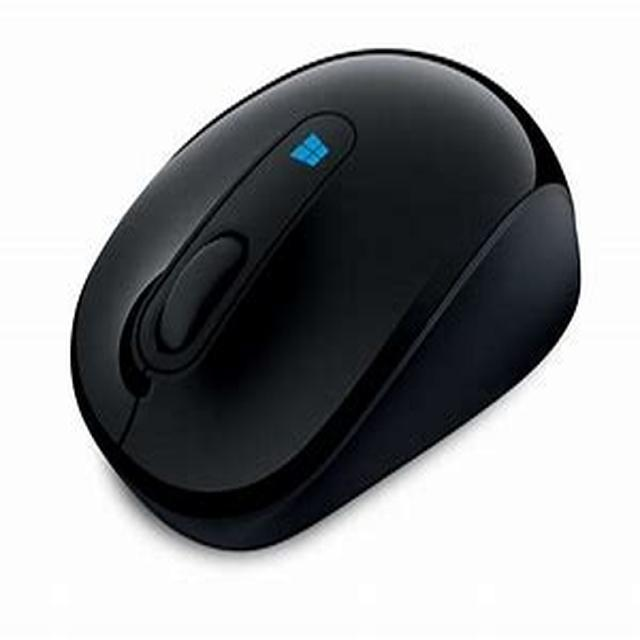mouse: (61, 39, 591, 566)
